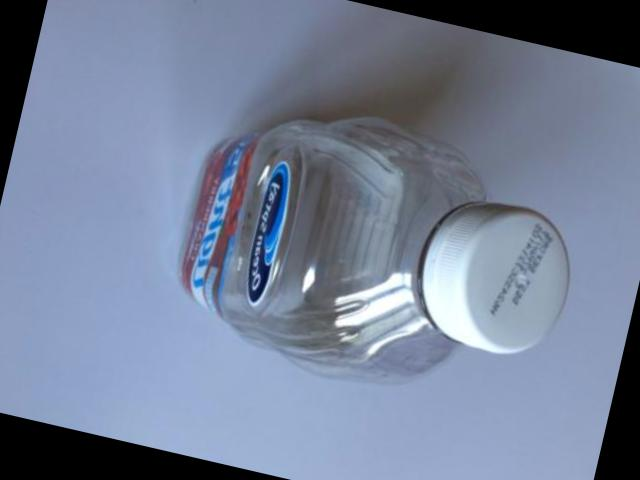plastic: (184, 116, 570, 380)
